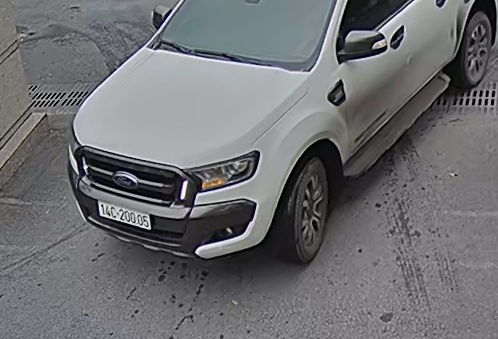vehicle plate: (96, 196, 151, 231)
